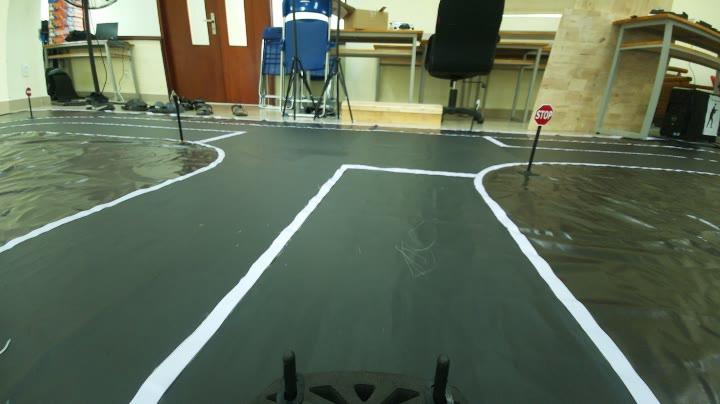stop: (534, 102, 556, 126)
